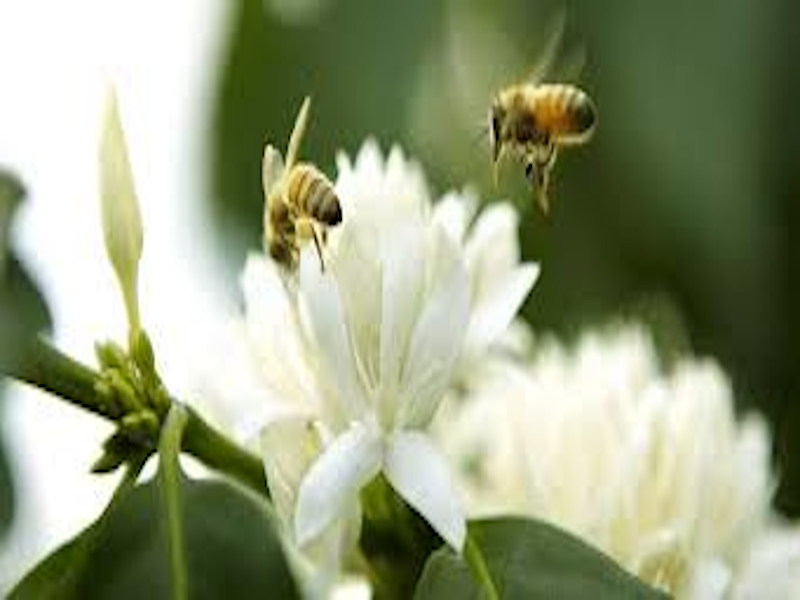abeja: (446, 18, 615, 220), (231, 79, 349, 272)
